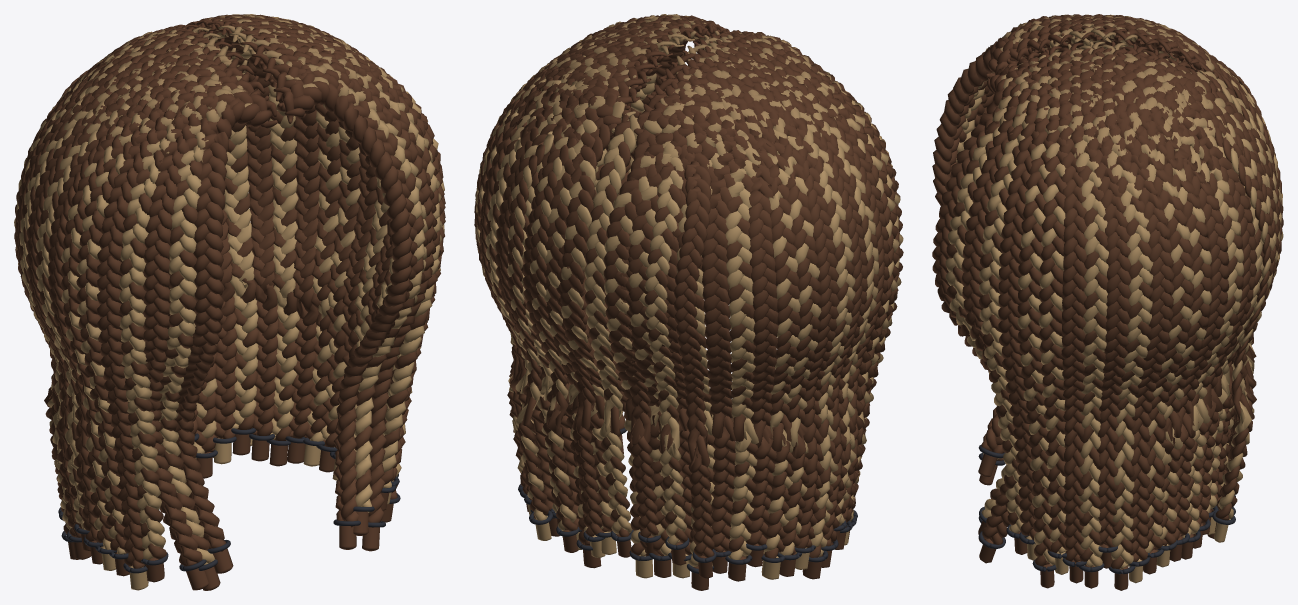
Rendered from Highlights-98ba5dd4d0c0251-hair.glb.
The picture shows the model from 3 angles, left to right: view 1: azimuth 30°, elevation 25°; view 2: azimuth 150°, elevation 25°; view 3: azimuth 270°, elevation 25°; orthographic projection. The views are drawn at different scales.
Parts seen in each view (by area): view 1: 226 hair / Hair / chestnut226.001, 226 hair / Hair / ties226.001; view 2: 226 hair / Hair / chestnut226.001, 226 hair / Hair / ties226.001; view 3: 226 hair / Hair / chestnut226.001, 226 hair / Hair / ties226.001.
Part boxes in pixels (x1,y1,x2,y2): 226 hair / Hair / chestnut226.001: [14, 14, 445, 590]; 226 hair / Hair / ties226.001: [58, 428, 400, 573]; 226 hair / Hair / chestnut226.001: [474, 14, 903, 590]; 226 hair / Hair / ties226.001: [518, 428, 857, 573]; 226 hair / Hair / chestnut226.001: [932, 14, 1283, 590]; 226 hair / Hair / ties226.001: [978, 445, 1235, 574].
Bounding box in the file's own units: 1.03 × 1.3 × 0.8491.
